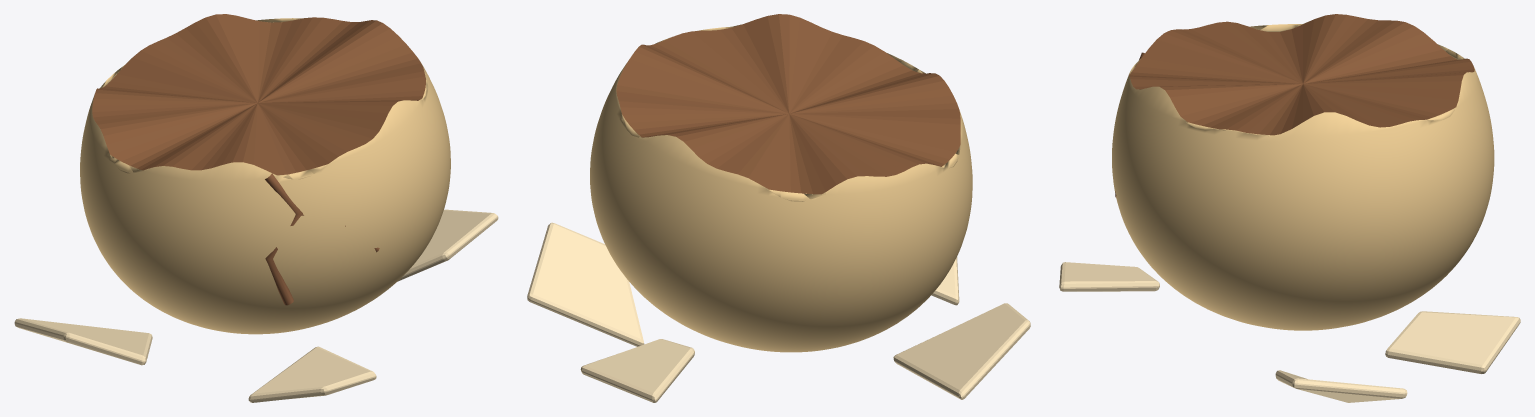
Rendered from impact_egg_much.glb.
The picture shows the model from 3 angles, left to right: view 1: azimuth 30°, elevation 25°; view 2: azimuth 150°, elevation 25°; view 3: azimuth 270°, elevation 25°; orthographic projection. The views are drawn at different scales.
Visible parts, largest first — view 1: Egg_MajorDamage, Detached shell front, Detached shell left, Detached shell right, Large remaining crack; view 2: Egg_MajorDamage, Detached shell right, Detached shell left, Detached shell back, Detached shell front; view 3: Egg_MajorDamage, Detached shell back, Detached shell front, Detached shell right.
Boxes of the visible parts, <box> form: Egg_MajorDamage: <box>80,14,450,334</box>; Detached shell front: <box>248,346,376,402</box>; Detached shell left: <box>14,318,152,365</box>; Detached shell right: <box>398,209,498,281</box>; Large remaining crack: <box>265,172,302,305</box>; Egg_MajorDamage: <box>590,14,972,352</box>; Detached shell right: <box>527,222,644,346</box>; Detached shell left: <box>893,303,1030,399</box>; Detached shell back: <box>580,339,694,402</box>; Detached shell front: <box>931,257,959,305</box>; Egg_MajorDamage: <box>1112,14,1494,330</box>; Detached shell back: <box>1385,311,1520,373</box>; Detached shell front: <box>1059,262,1159,291</box>; Detached shell right: <box>1275,370,1407,402</box>.
Bounding box in the file's own units: 1.46 × 0.8672 × 1.22.
